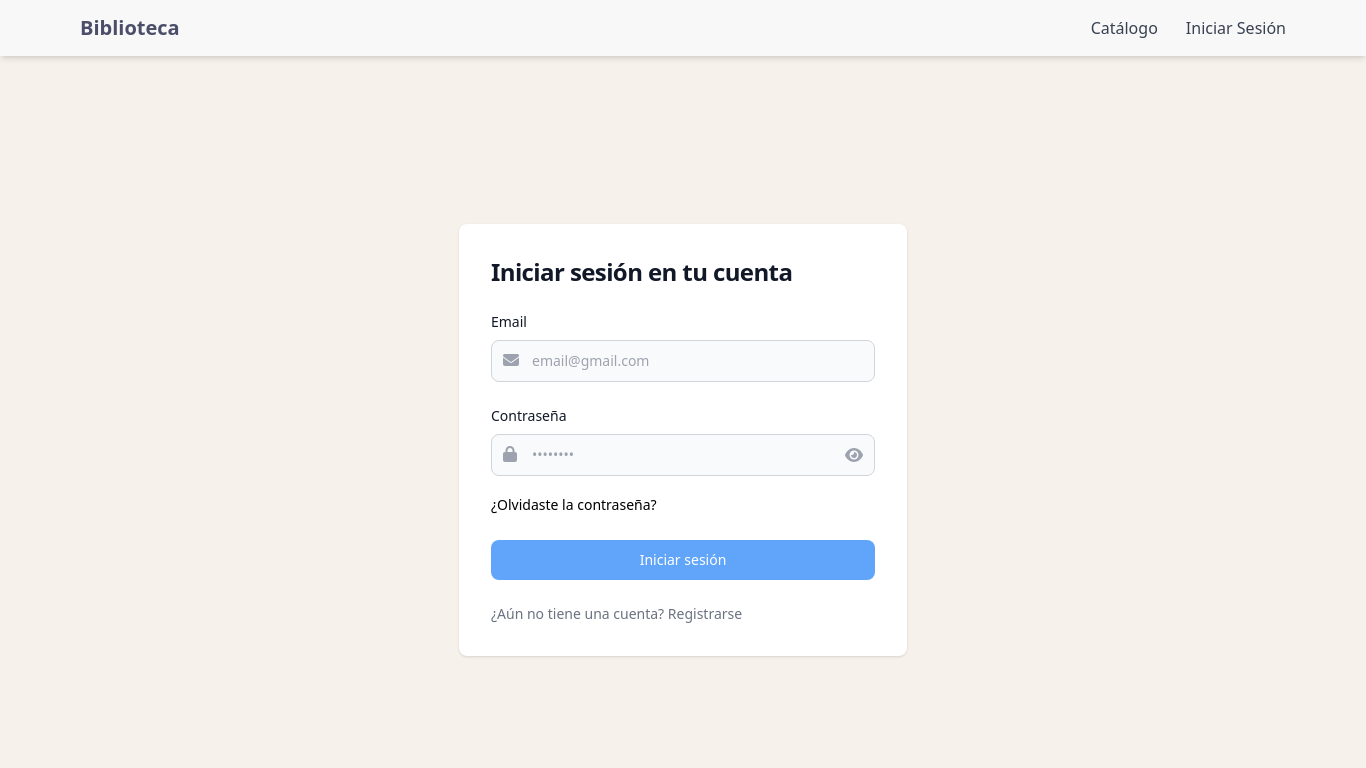
Test: shows error message on failed login
Type "test@example.com" into the field with placeholder "email@gmail.com" at [683, 361], box [491,340,875,382]
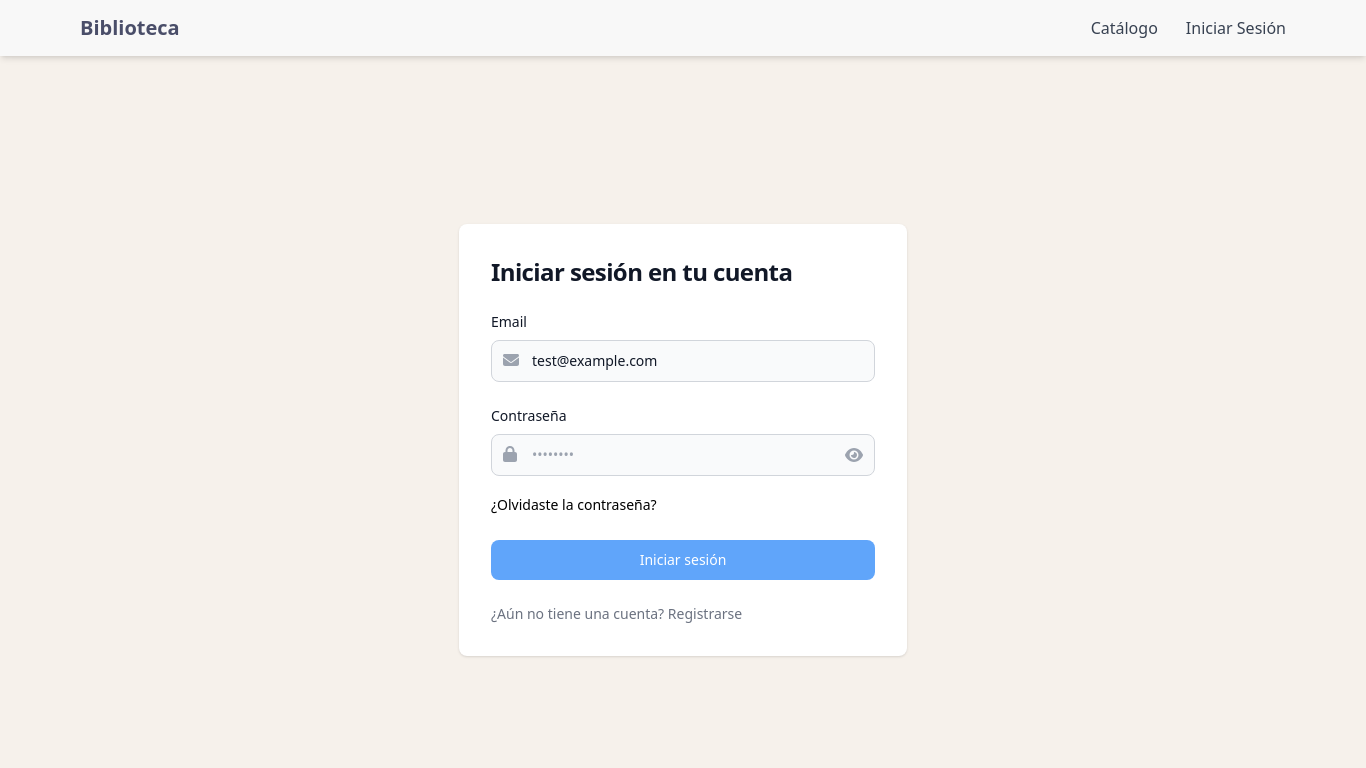
Type "password123" into the password field with placeholder "••••••••" at [683, 455], box [491,434,875,476]
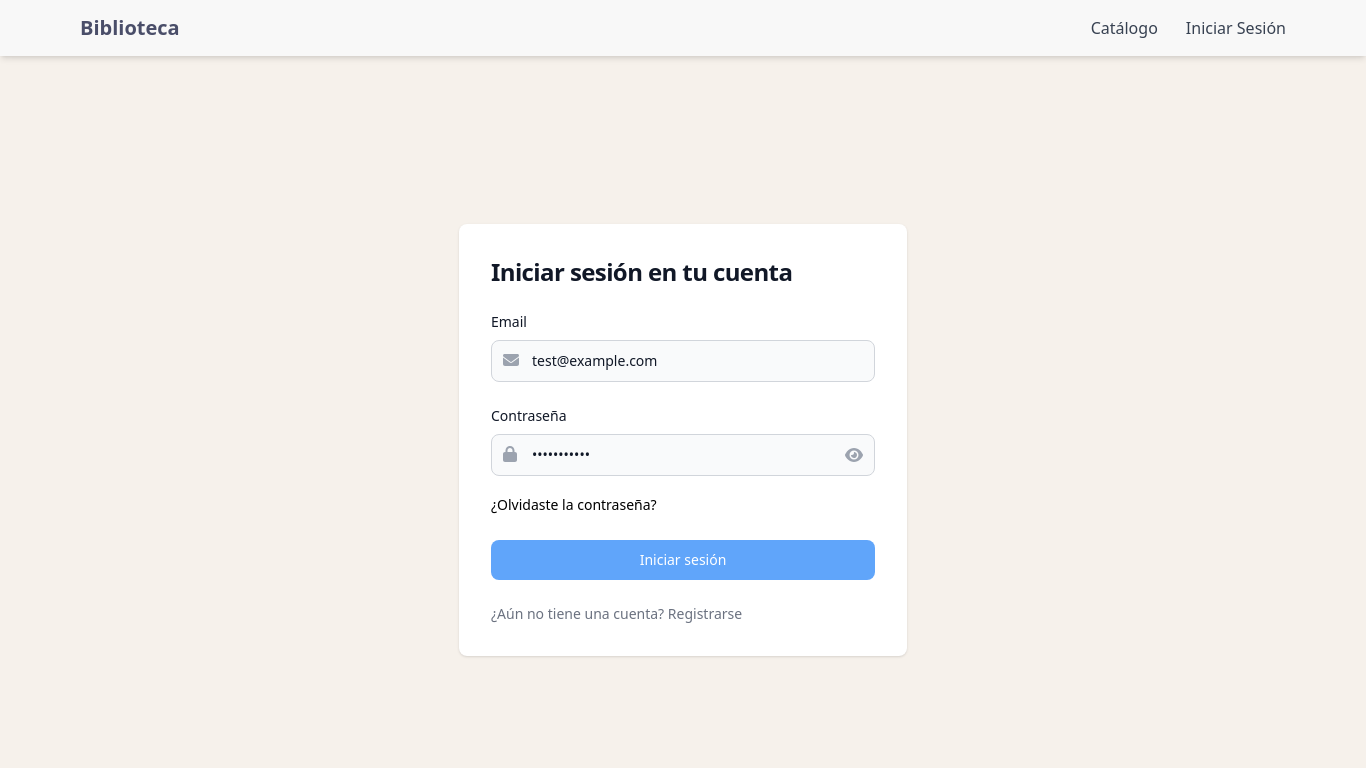
Click the button "Iniciar sesión" at [683, 560], box [491,540,875,580]
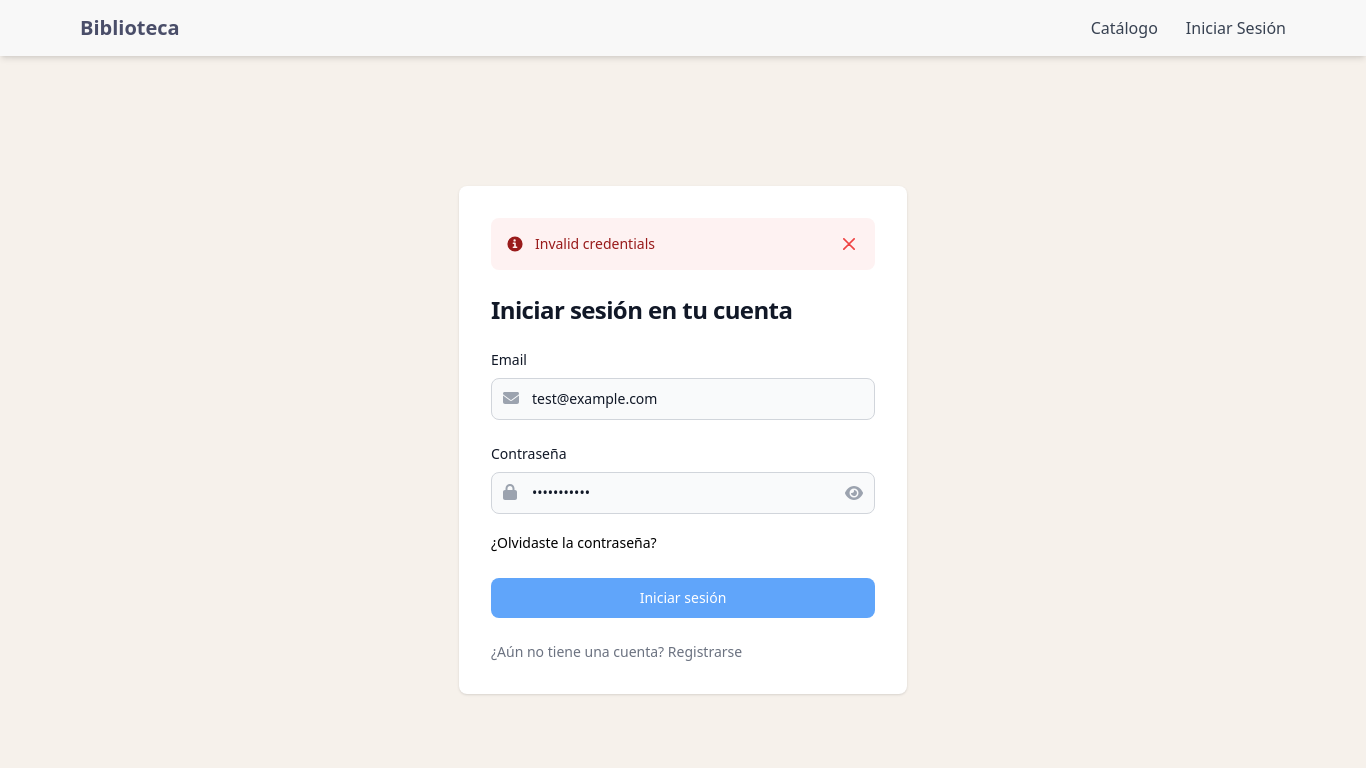
Expected: the text "Invalid credentials" is shown, [535,234,655,254]
